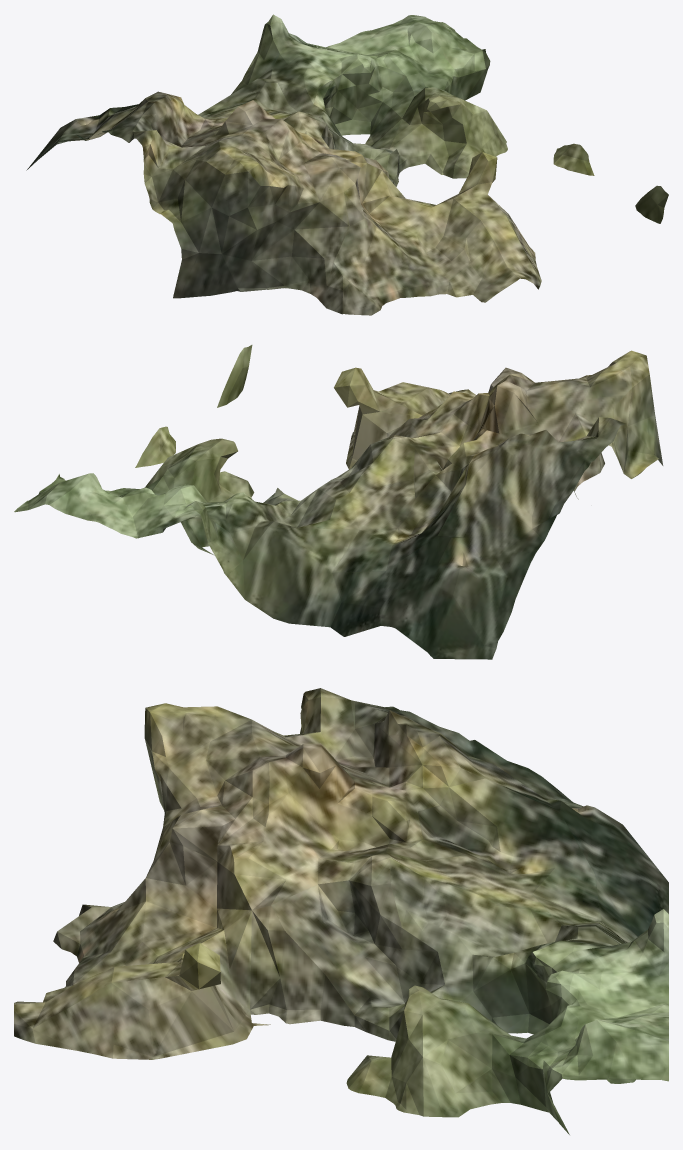
The picture shows the model from 3 angles, top to bottom: view 1: azimuth 30°, elevation 25°; view 2: azimuth 150°, elevation 25°; view 3: azimuth 270°, elevation 25°; orthographic projection. The views are drawn at different scales.
Size of the model in its own units: 5.9 by 1.82 by 5.9.
Materials: 3 (3 with a texture image).
